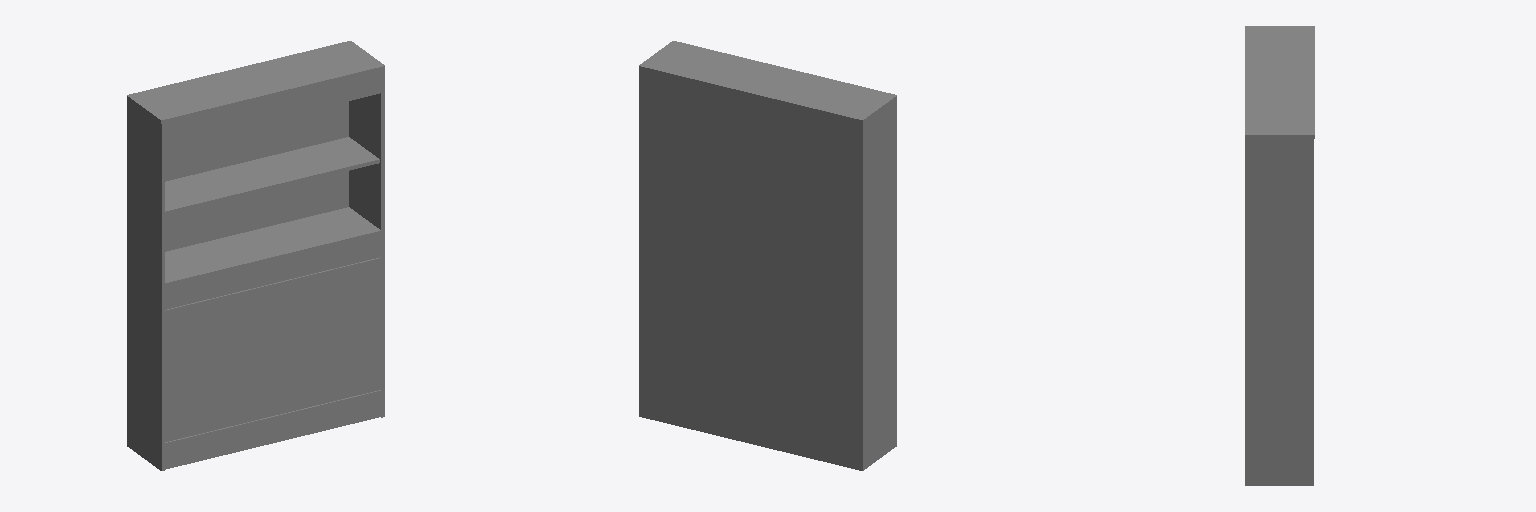
Rendered from bookshelf_OBJ.obj.
3 views of the same model, side by side, from view 1: azimuth 30°, elevation 25°; view 2: azimuth 150°, elevation 25°; view 3: azimuth 270°, elevation 25° (orthographic).
Parts seen in each view (by area): view 1: shelf, door_R, door_L; view 2: shelf; view 3: shelf.
Boxes of the visible parts, x1=… form: shelf: x1=127, y1=41, x2=384, y2=470; door_R: x1=272, y1=262, x2=380, y2=415; door_L: x1=165, y1=289, x2=271, y2=441; shelf: x1=639, y1=41, x2=896, y2=470; shelf: x1=1245, y1=26, x2=1314, y2=485.
Bounding box in the file's own units: 5.93 × 8.86 × 1.58.